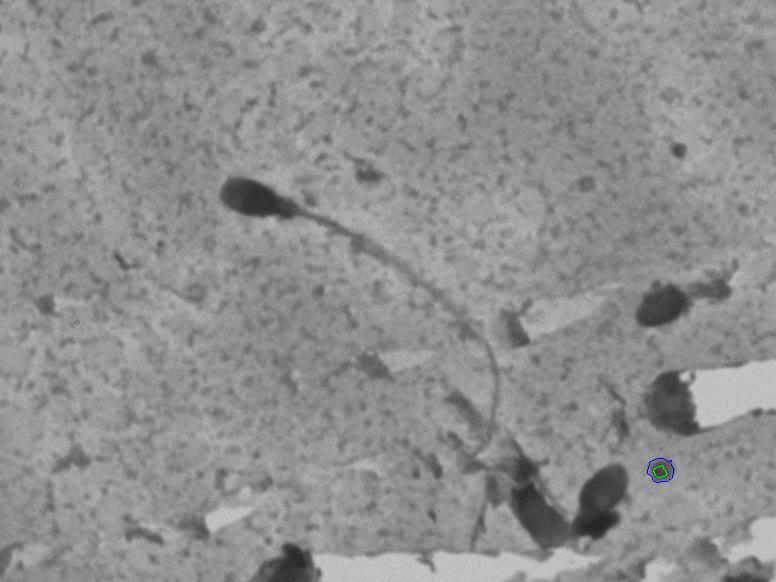Abnormal: (189, 135, 541, 489)
